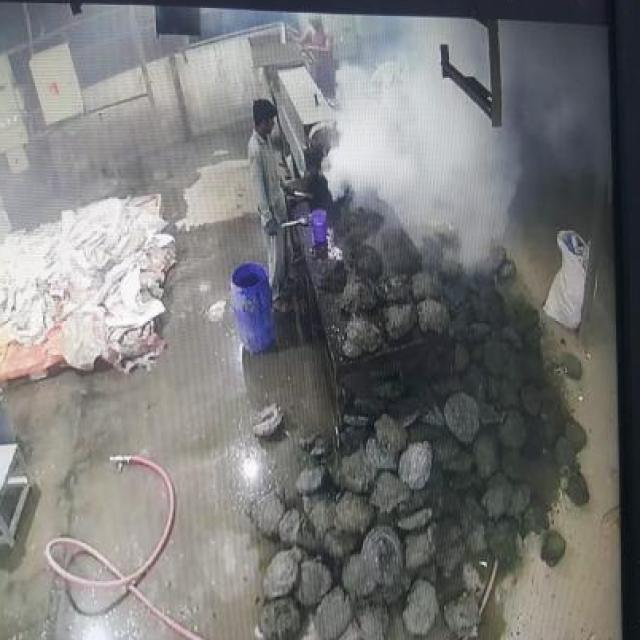fire: (321, 32, 520, 270)
